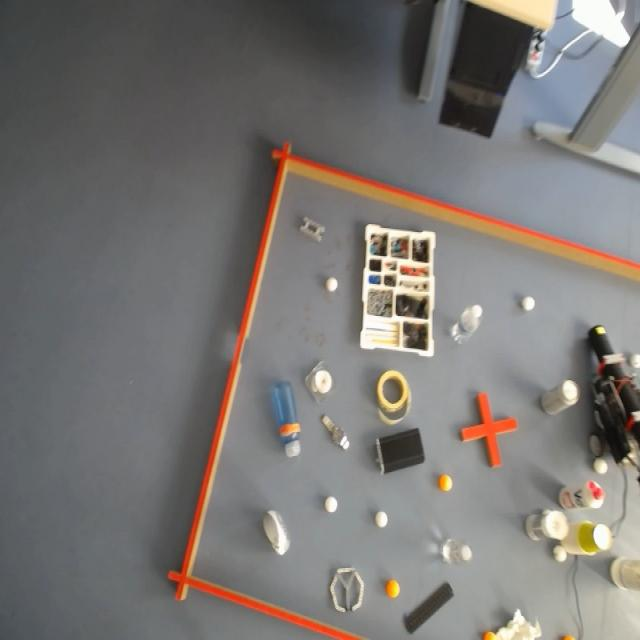orange: (384, 578, 400, 598), (438, 474, 453, 494)
robot: (590, 327, 640, 470)
robot-front: (594, 325, 609, 336)
white: (322, 494, 340, 515), (518, 295, 538, 313), (373, 510, 390, 530), (552, 543, 567, 564), (594, 457, 608, 475), (325, 277, 339, 292)
